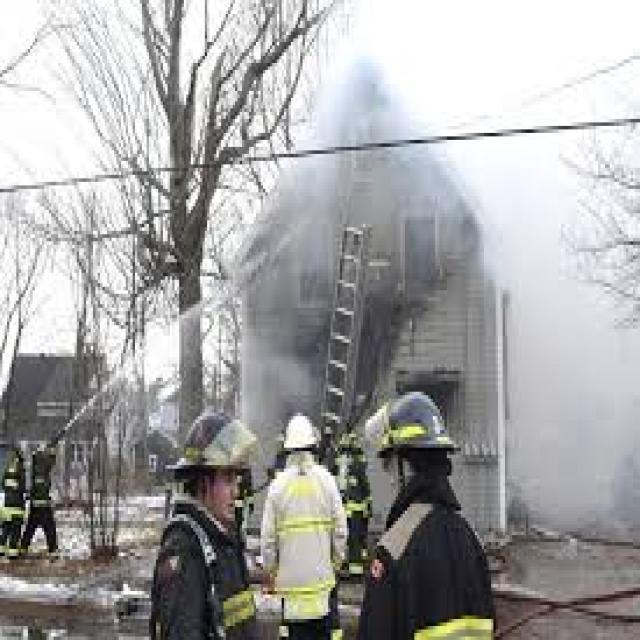Smoke: (251, 0, 638, 514)
